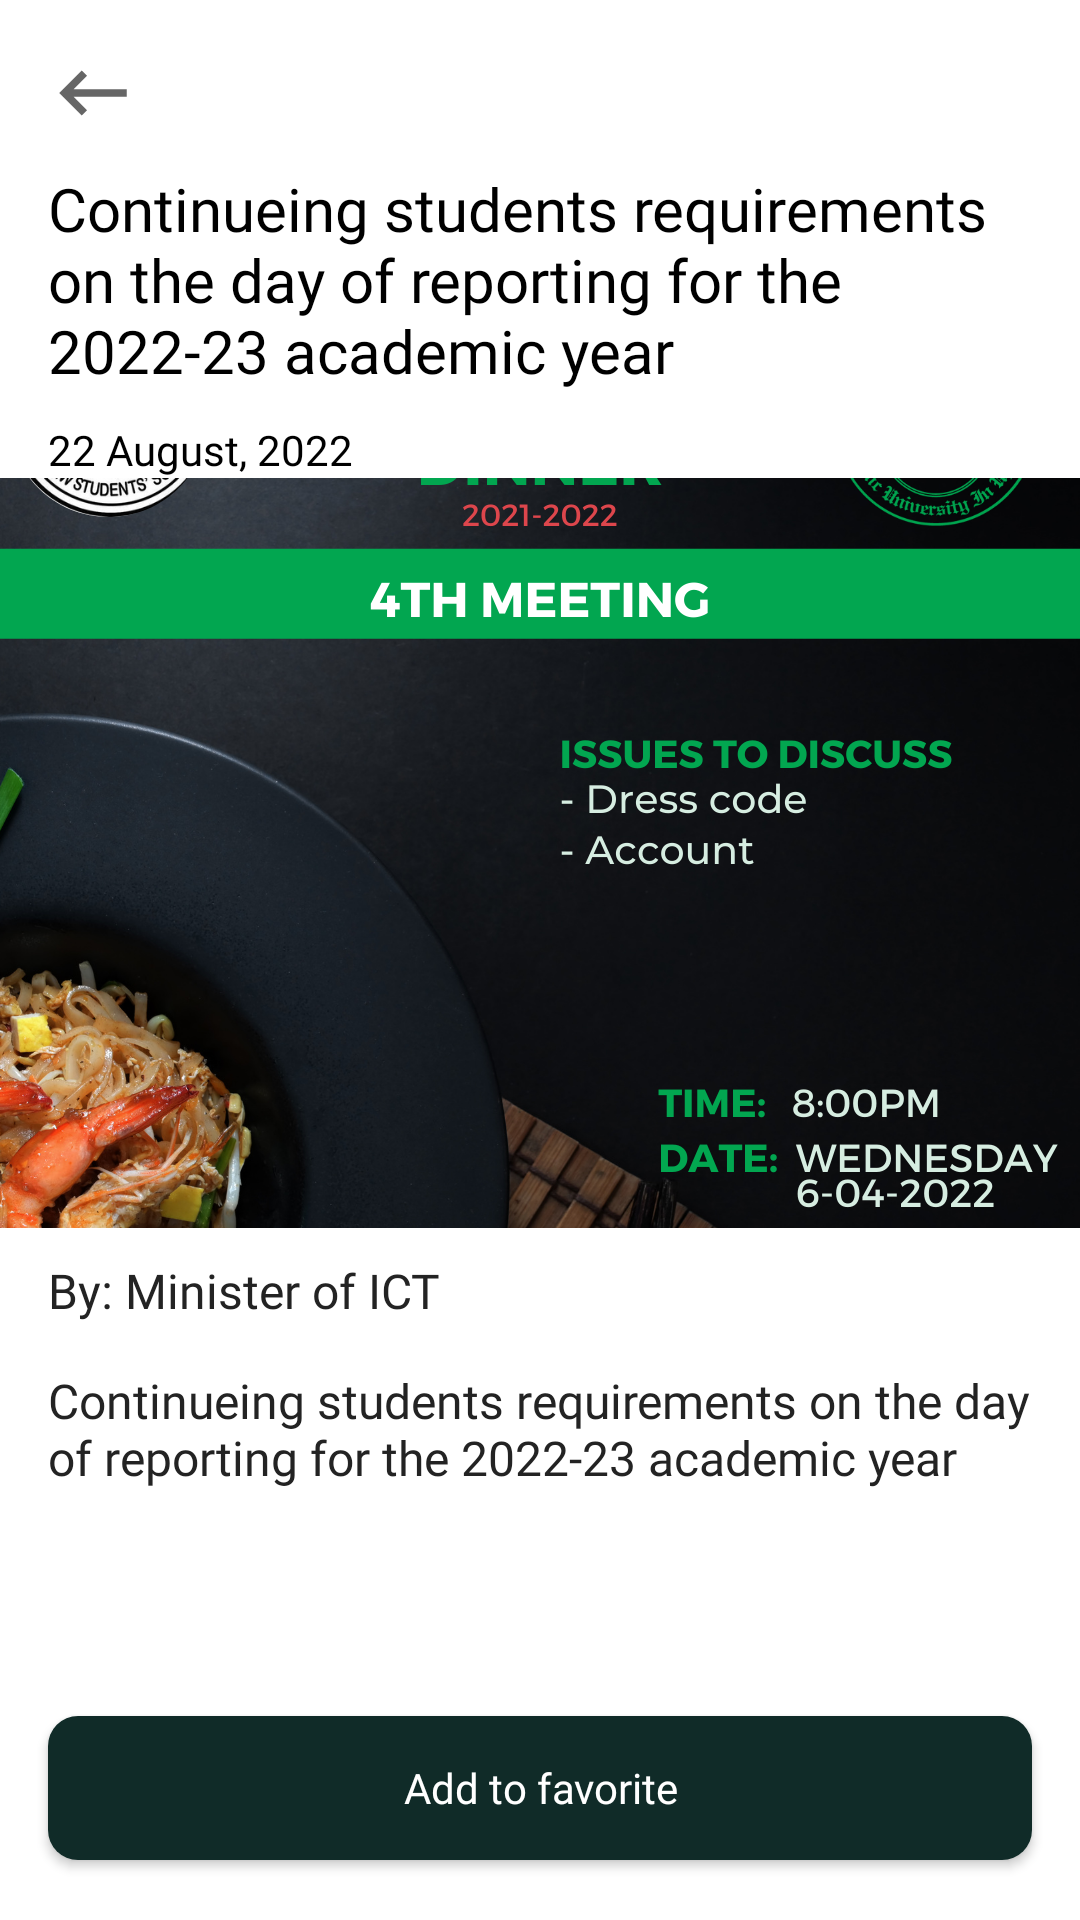

Point at icon controls on the screen. Image size 1080px x 1920px, points as point (x, y).
back arrow: point (93, 93)
